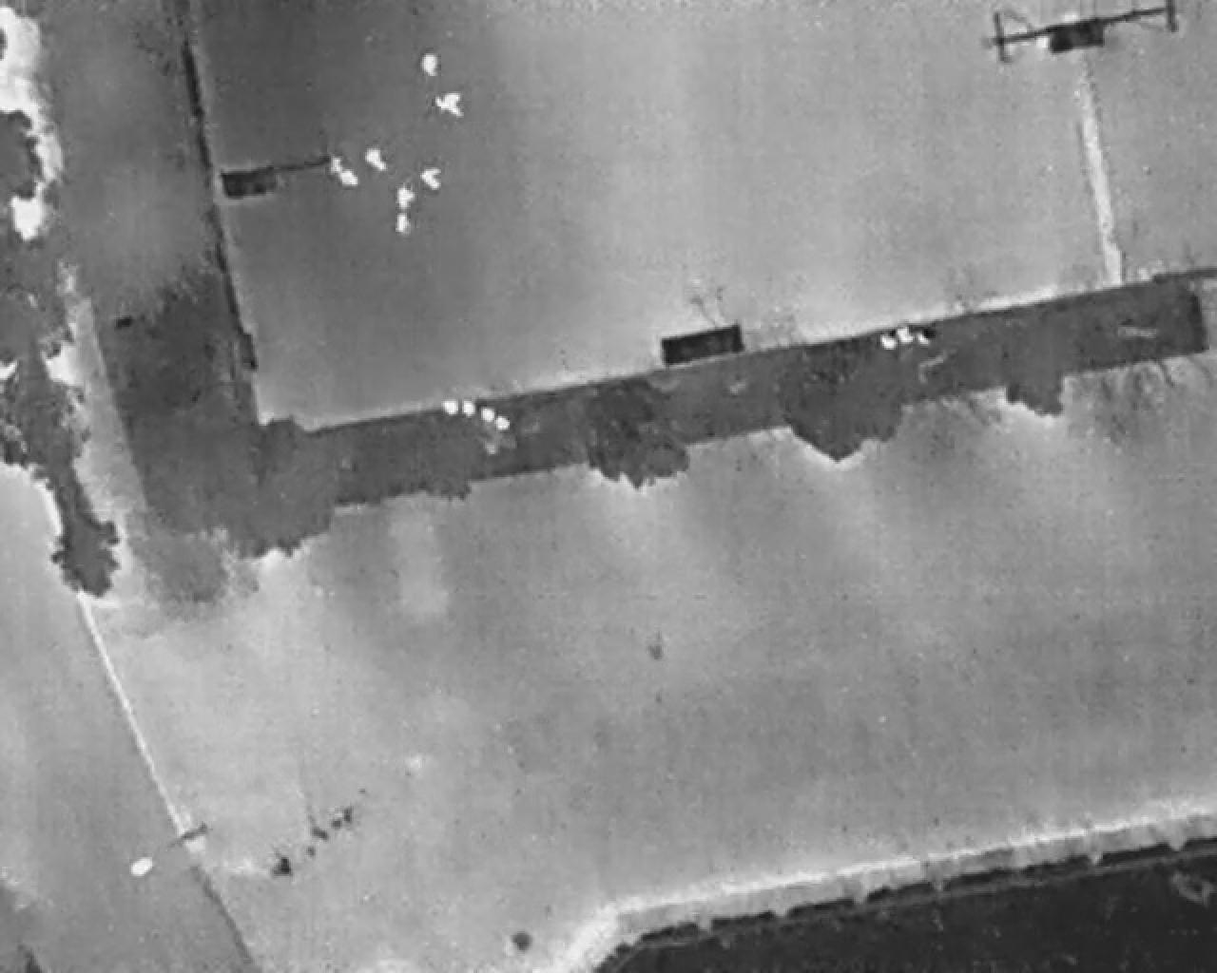person: (436, 94, 465, 119), (419, 168, 444, 191), (364, 147, 387, 170), (421, 52, 440, 77), (398, 185, 415, 210), (396, 214, 412, 237), (341, 170, 360, 187), (330, 155, 343, 176)
